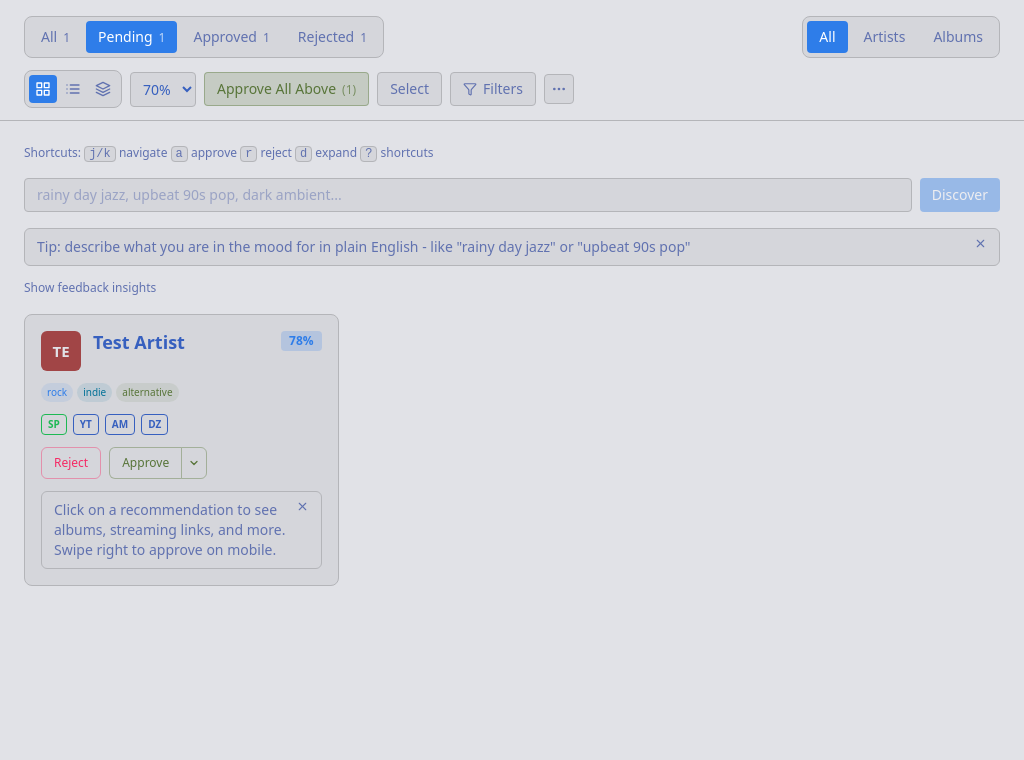
Test case: DiscoverPage › clicking a card expands it
// Click the card - AI reasoning should appear in expanded view
Click the heading "Test Artist".
click(139, 342)  # box [93,331,185,354]
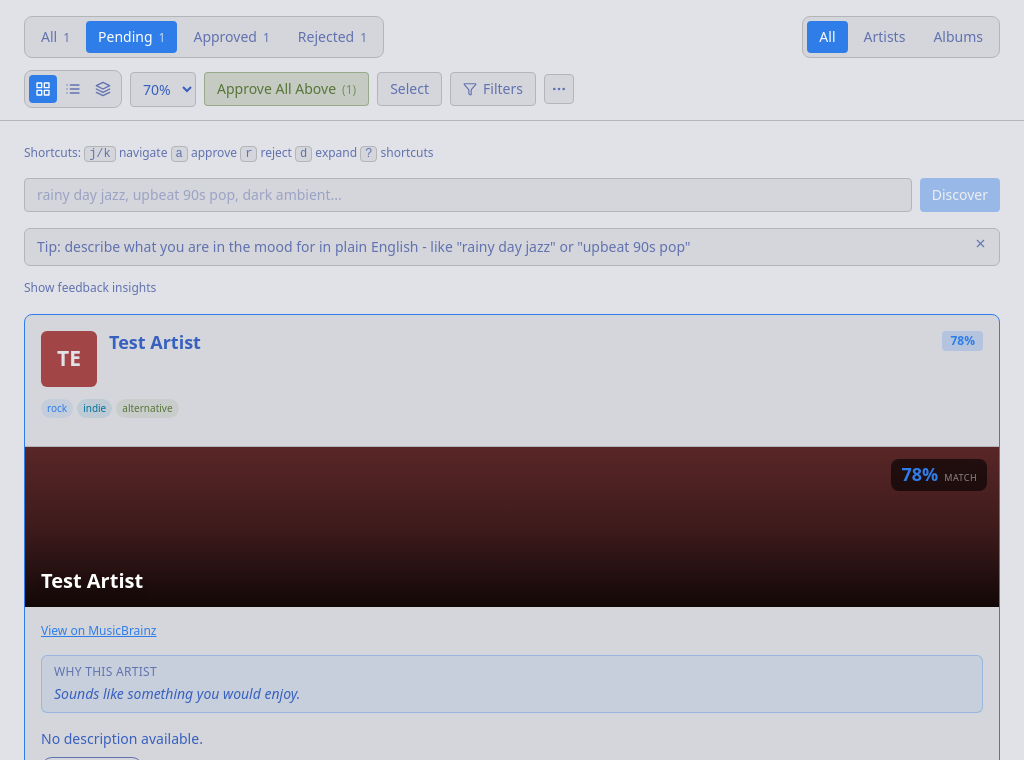
Expected: the text "Sounds like something you would enjoy." is shown, [54,684,300,703]
